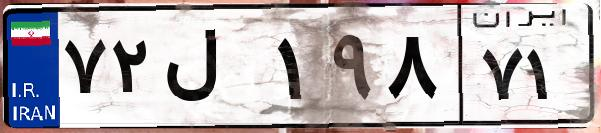1: (270, 28, 330, 110), (525, 38, 570, 115)
2: (110, 28, 158, 98)
7: (57, 26, 110, 100), (475, 38, 525, 113)
8: (385, 28, 445, 110)
9: (330, 28, 385, 110)
ل: (158, 20, 270, 120)
